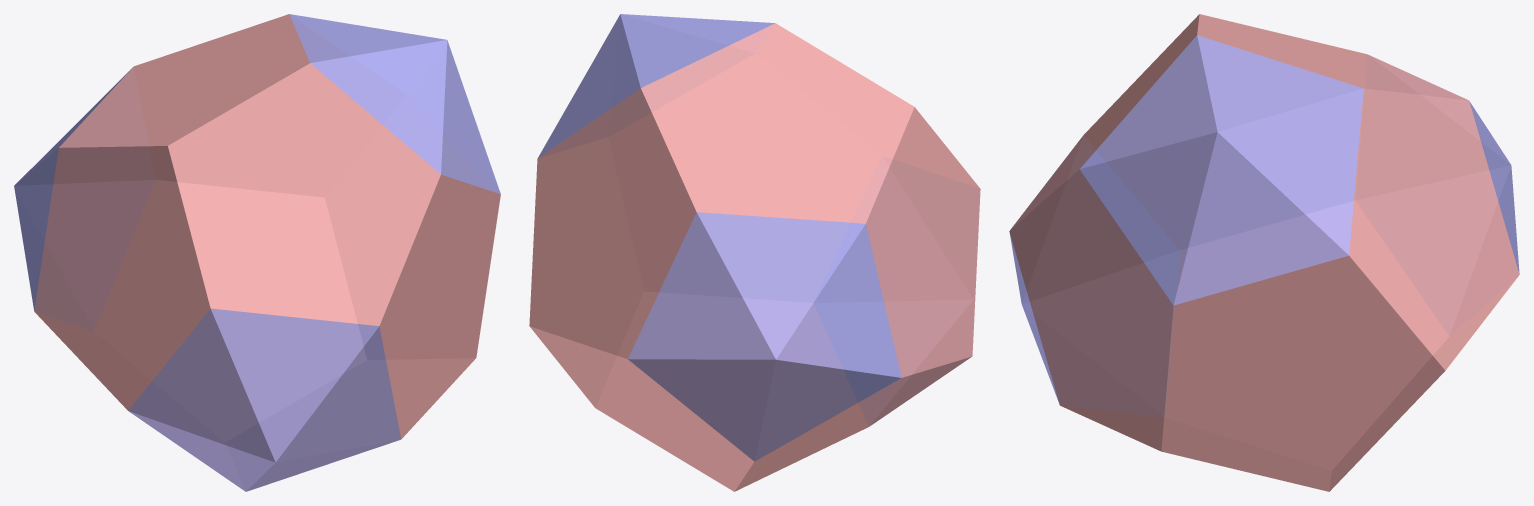
File: j61_triaugmented_dodecahedron.obj
The picture shows the model from 3 angles, left to right: view 1: azimuth 30°, elevation 25°; view 2: azimuth 150°, elevation 25°; view 3: azimuth 270°, elevation 25°; orthographic projection. The views are drawn at different scales.
Size of the model in its own units: 1.79 by 1.88 by 1.95.
